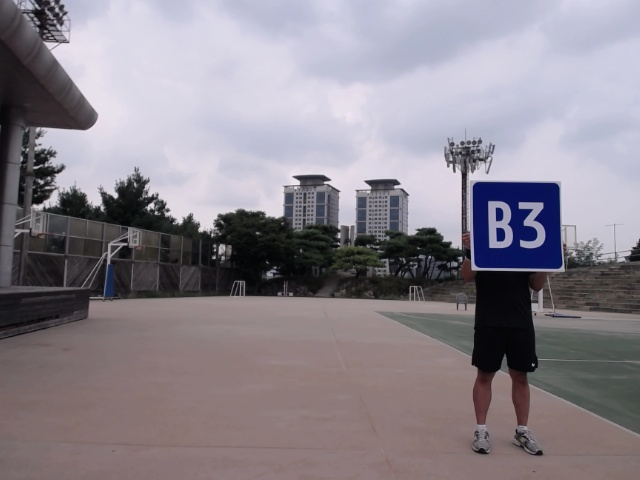delivery_b3: (468, 175, 565, 274)
